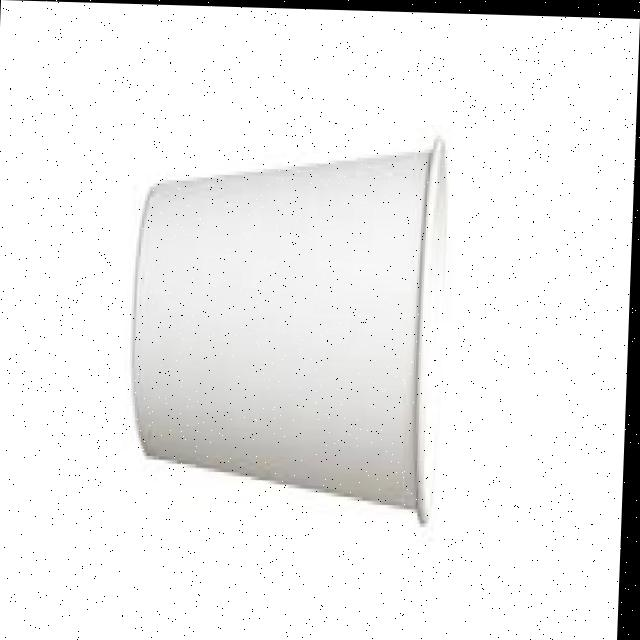cup: (74, 96, 504, 545)
